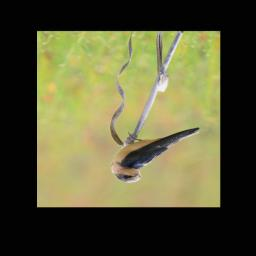Swallow: (110, 124, 210, 186)
